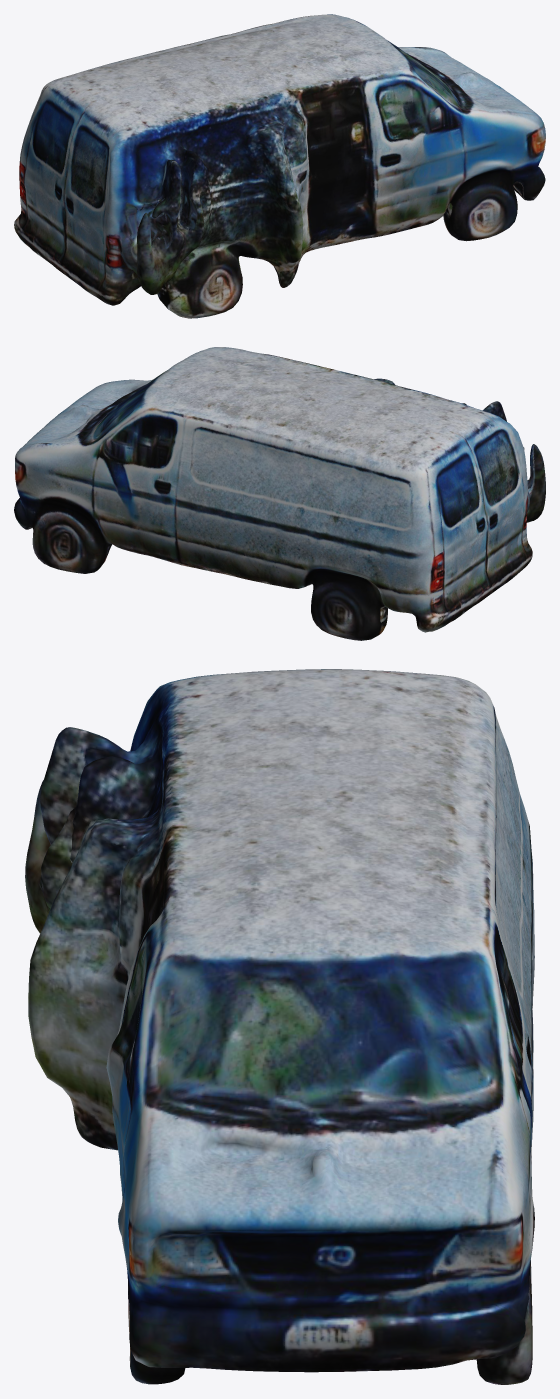
File: Truck.fbx
3 views of the same model, one above another, from view 1: azimuth 30°, elevation 25°; view 2: azimuth 150°, elevation 25°; view 3: azimuth 270°, elevation 25° (orthographic). The views are drawn at different scales.
Visible parts, largest first — view 1: mesh; view 2: mesh; view 3: mesh.
Part boxes in pixels (x1,y1,x2,y2): mesh: (14,14,545,318); mesh: (14,347,545,640); mesh: (25,669,534,1384).
Size of the model in its own units: 99.97 by 41.83 by 50.7.
